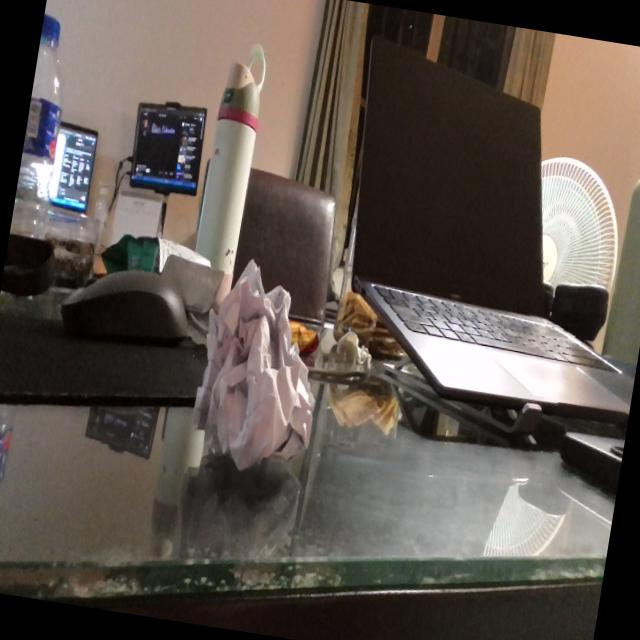crumpled_paper: (184, 249, 338, 487)
